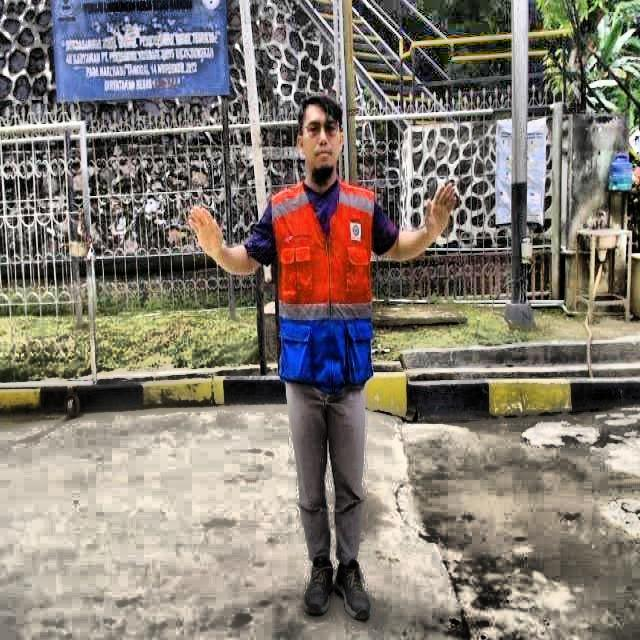safety_jacket: (268, 176, 378, 385)
